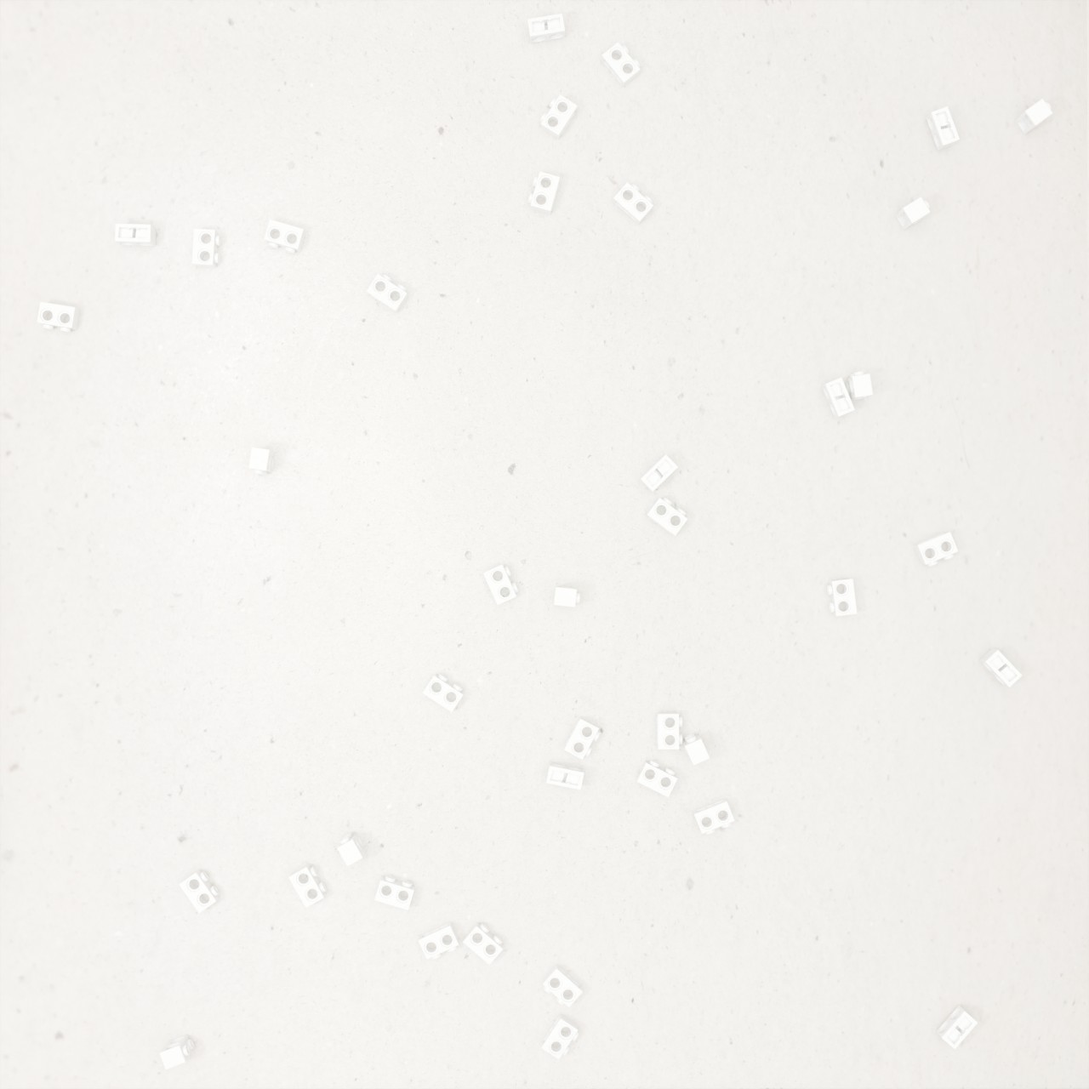lego: (936, 1005, 978, 1050), (601, 42, 641, 88), (179, 869, 220, 913), (541, 1013, 579, 1060), (613, 182, 654, 225), (463, 922, 504, 965), (543, 964, 583, 1008), (979, 648, 1023, 688), (288, 863, 327, 908), (540, 94, 578, 140), (366, 274, 409, 313), (418, 921, 460, 960), (422, 674, 464, 713), (646, 497, 688, 536), (636, 760, 678, 798), (692, 798, 735, 835), (913, 532, 958, 567), (564, 717, 600, 760), (926, 106, 960, 151), (374, 875, 416, 911), (639, 454, 678, 492), (483, 564, 519, 605), (264, 219, 306, 254), (528, 171, 560, 215), (1014, 99, 1053, 135), (821, 377, 855, 418), (37, 302, 80, 333), (159, 1034, 194, 1070), (895, 197, 931, 230), (192, 228, 221, 268), (827, 578, 857, 616), (527, 13, 565, 43), (546, 763, 584, 790), (337, 833, 367, 867), (656, 712, 683, 749), (682, 733, 710, 766), (115, 224, 156, 246), (845, 371, 873, 401), (248, 447, 276, 475), (554, 586, 580, 607)
